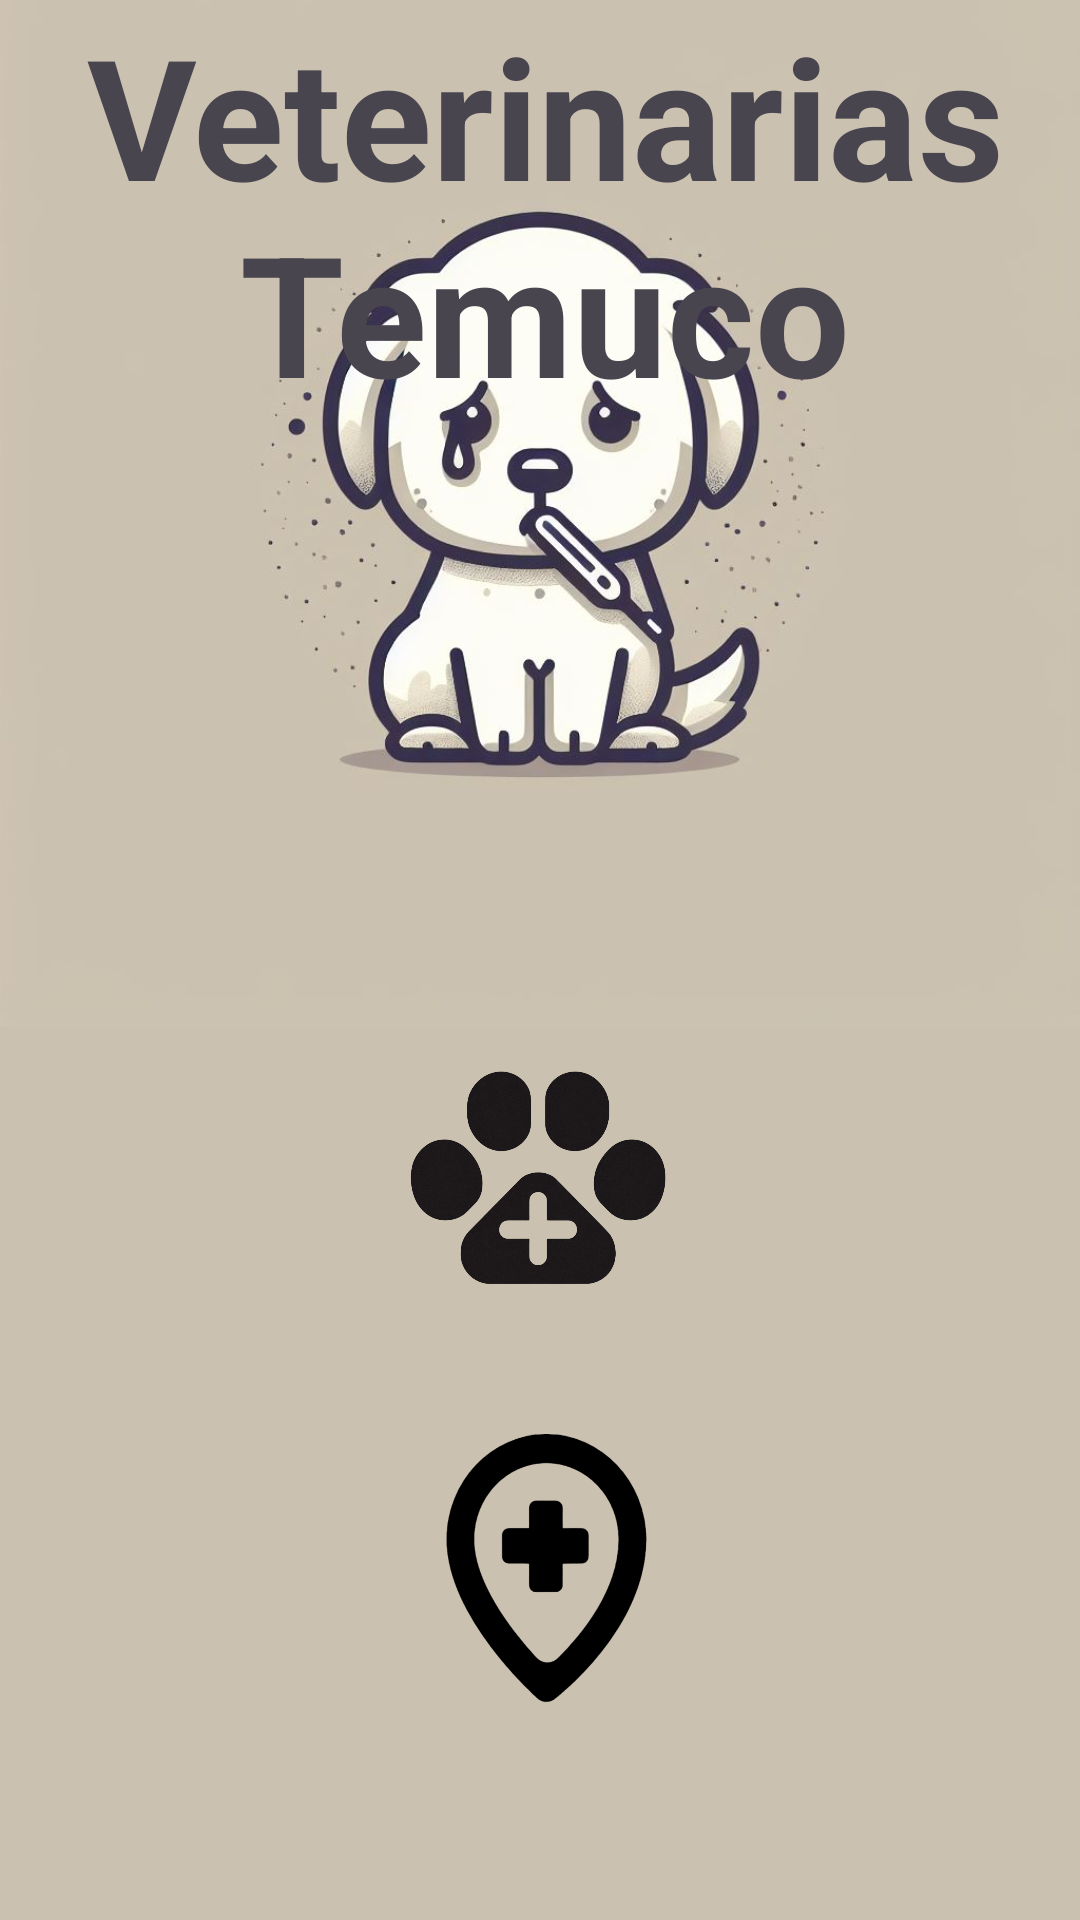

Icon bounding boxes for this 1080px x 1920px phone screenshot, format (x1, y1, x2, y2):
addperro: (411, 1071, 666, 1284)
veterinarias: (446, 1434, 647, 1702)
